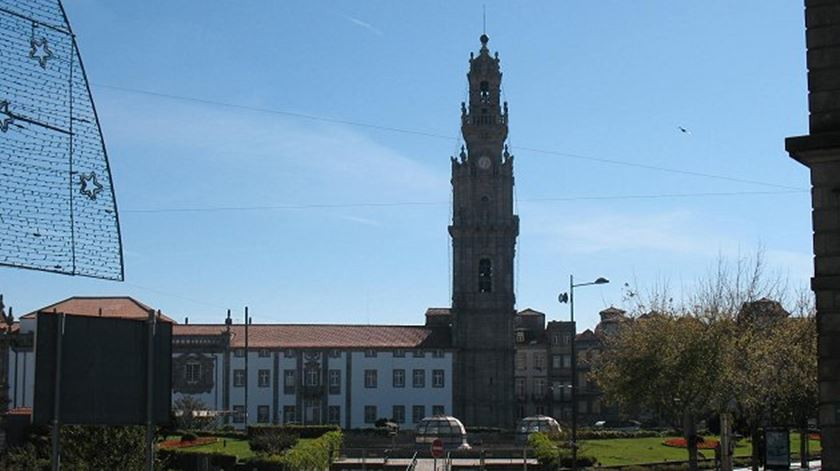clerigos: (444, 3, 522, 430)
